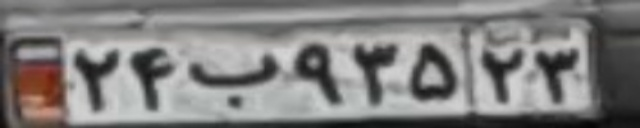2: (75, 47, 127, 111), (478, 43, 525, 101)
3: (533, 44, 587, 104), (353, 39, 393, 106)
4: (128, 46, 183, 107)
5: (407, 41, 460, 102)
9: (295, 43, 343, 106)
be: (188, 51, 276, 106)
